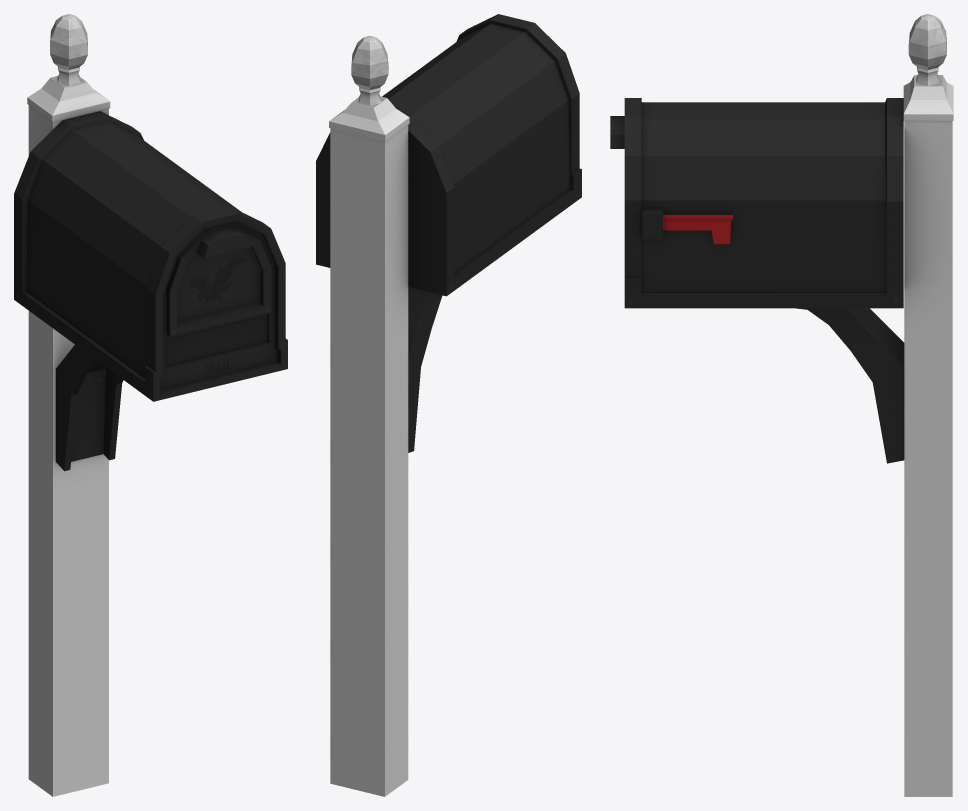
The model's file is Mailbox.obj.
3 renders of one model, left to right at view 1: azimuth 30°, elevation 25°; view 2: azimuth 150°, elevation 25°; view 3: azimuth 270°, elevation 25°, orthographic. The views are drawn at different scales.
Visible parts, largest first — view 1: Mailbox_Mesh; view 2: Mailbox_Mesh; view 3: Mailbox_Mesh.
Boxes of the visible parts, left/top/right/bottom form: Mailbox_Mesh: left=14, top=14, right=287, bottom=796; Mailbox_Mesh: left=316, top=14, right=581, bottom=796; Mailbox_Mesh: left=610, top=14, right=953, bottom=796.
Size of the model in its own units: 0.8557 by 4.53 by 1.84.
Materials: 1 (1 with a texture image).
